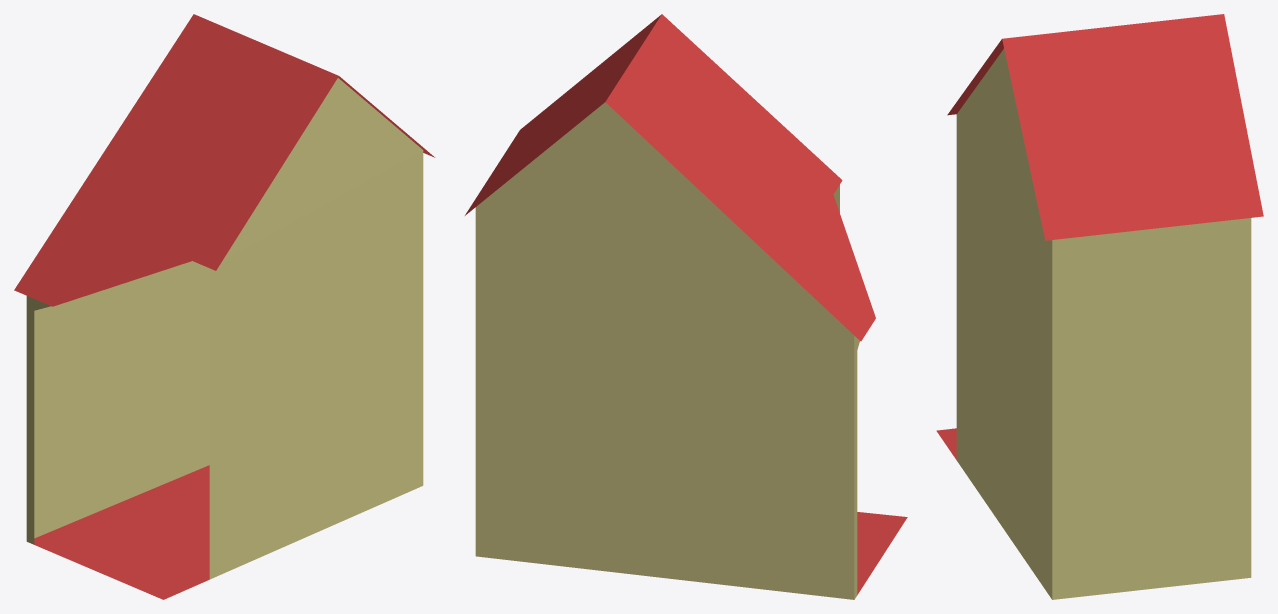
3 views of the same model, side by side, from view 1: azimuth 30°, elevation 25°; view 2: azimuth 150°, elevation 25°; view 3: azimuth 270°, elevation 25° (orthographic). The views are drawn at different scales.
Size of the model in its own units: 11.96 by 8.15 by 13.82.
